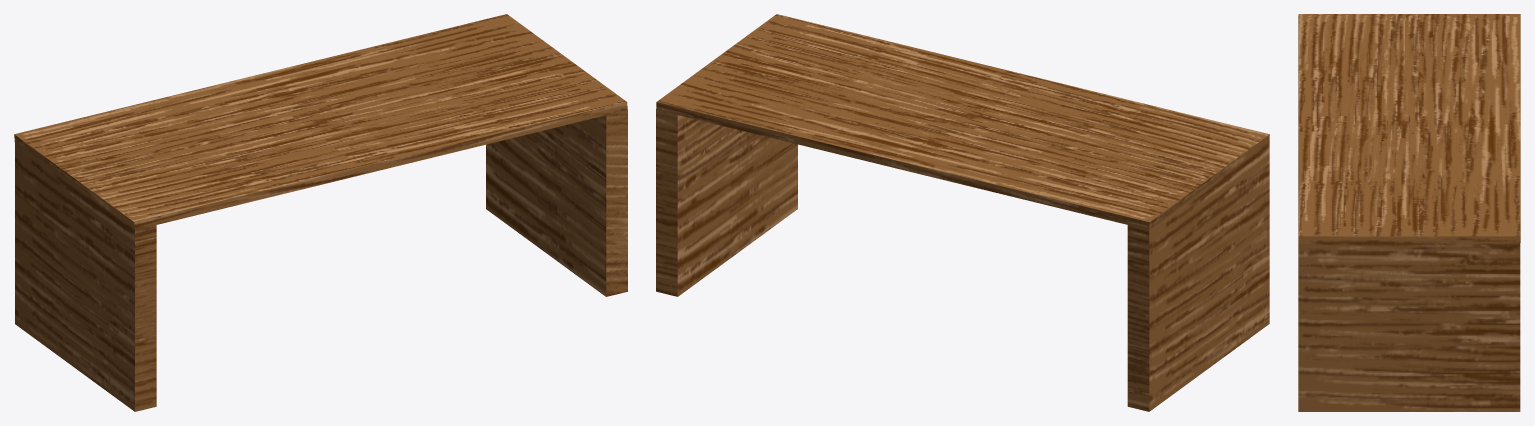
Rendered from MesaTexturizada.fbx.
3 views of the same model, side by side, from view 1: azimuth 30°, elevation 25°; view 2: azimuth 150°, elevation 25°; view 3: azimuth 270°, elevation 25° (orthographic). The views are drawn at different scales.
Parts seen in each view (by area): view 1: MesaDeEstudo; view 2: MesaDeEstudo; view 3: MesaDeEstudo.
Part boxes in pixels (x1,y1,x2,y2): MesaDeEstudo: [14, 14, 627, 411]; MesaDeEstudo: [656, 14, 1269, 411]; MesaDeEstudo: [1298, 14, 1520, 411].
Bounding box in the file's own units: 129 × 47.43 × 54.52.
